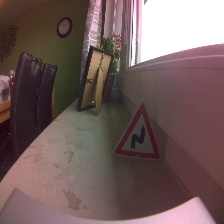vorsicht: (115, 100, 163, 164)
